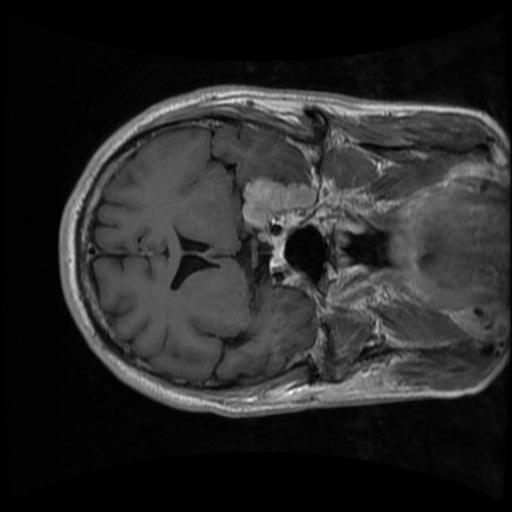meningioma: (242, 177, 314, 229)
